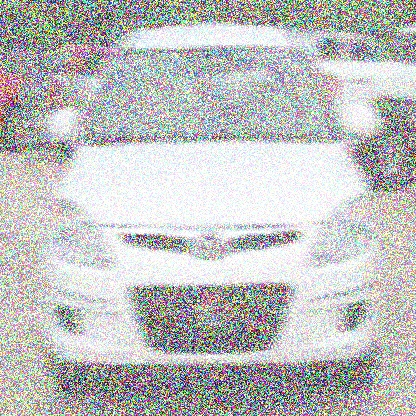Vehicle: (44, 21, 384, 400)
